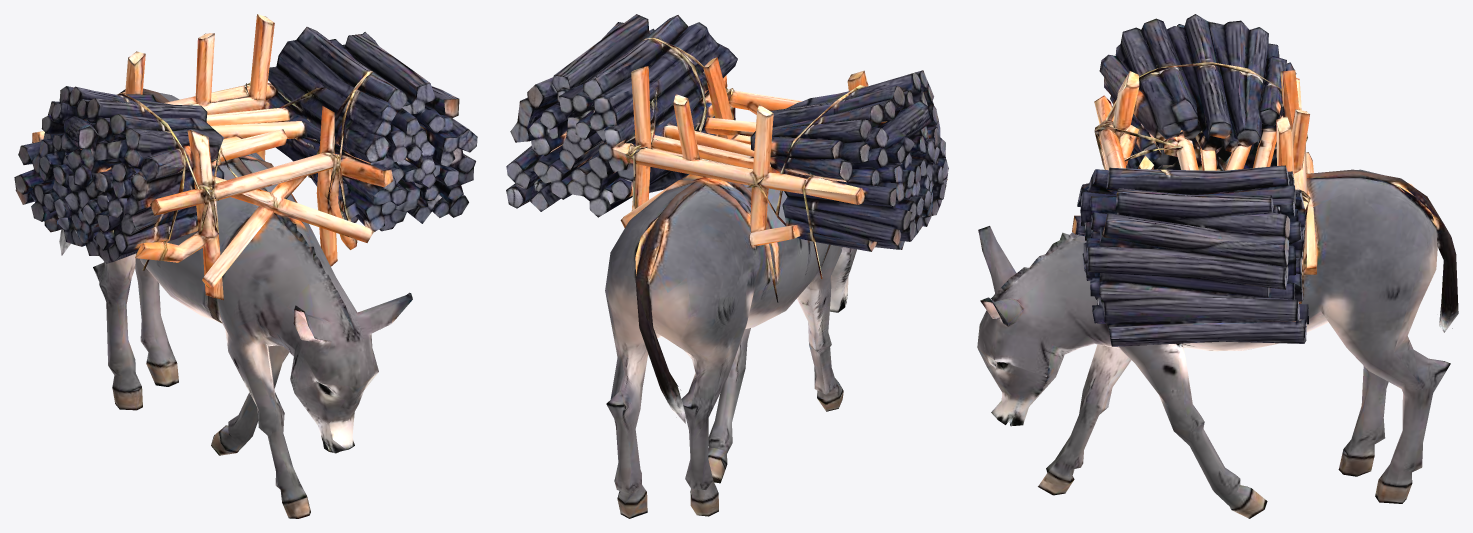
File: qm_donkey_lo.glb
The picture shows the model from 3 angles, left to right: view 1: azimuth 30°, elevation 25°; view 2: azimuth 150°, elevation 25°; view 3: azimuth 270°, elevation 25°; orthographic projection. The views are drawn at different scales.
Parts seen in each view (by area): view 1: qm_donkey; view 2: qm_donkey; view 3: qm_donkey.
Boxes of the visible parts, x1=… form: qm_donkey: x1=14, y1=14, x2=477, y2=518; qm_donkey: x1=506, y1=14, x2=948, y2=518; qm_donkey: x1=977, y1=14, x2=1458, y2=518.
Bounding box in the file's own units: 1.55 × 1.6 × 1.64.
Materials: 1 (1 with a texture image).
